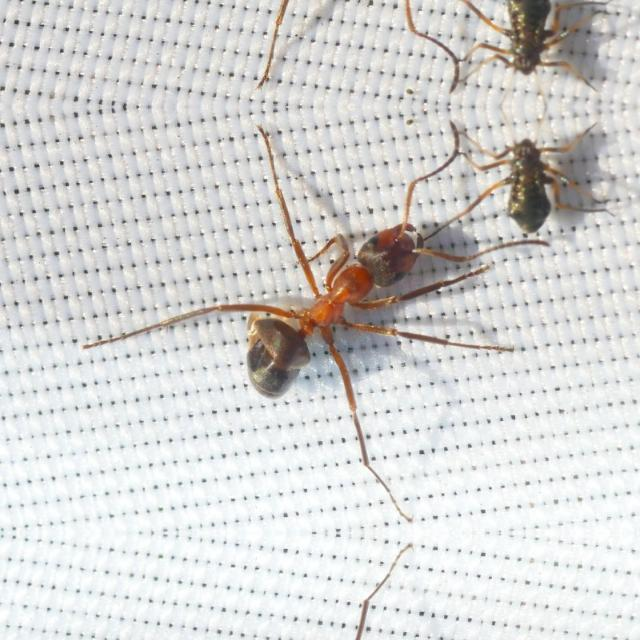Formica: (200, 189, 454, 417)
